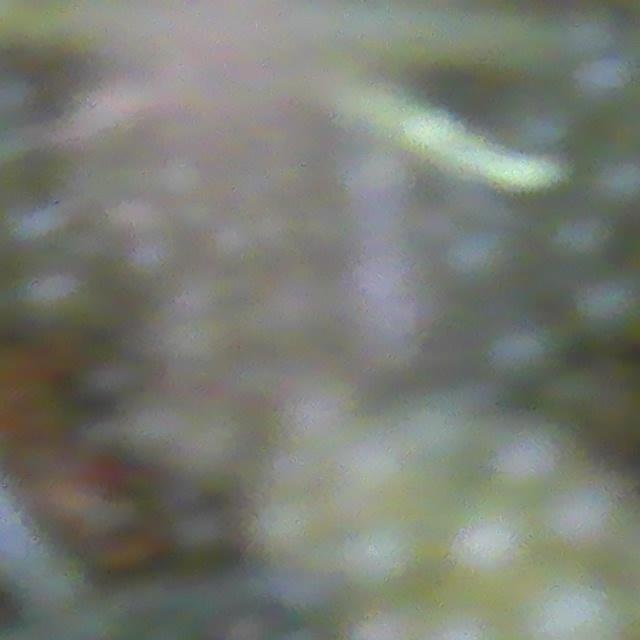SeaGrape: (446, 502, 533, 589), (475, 428, 566, 511), (517, 572, 625, 640), (543, 477, 632, 555), (338, 522, 418, 601), (588, 144, 640, 211)
